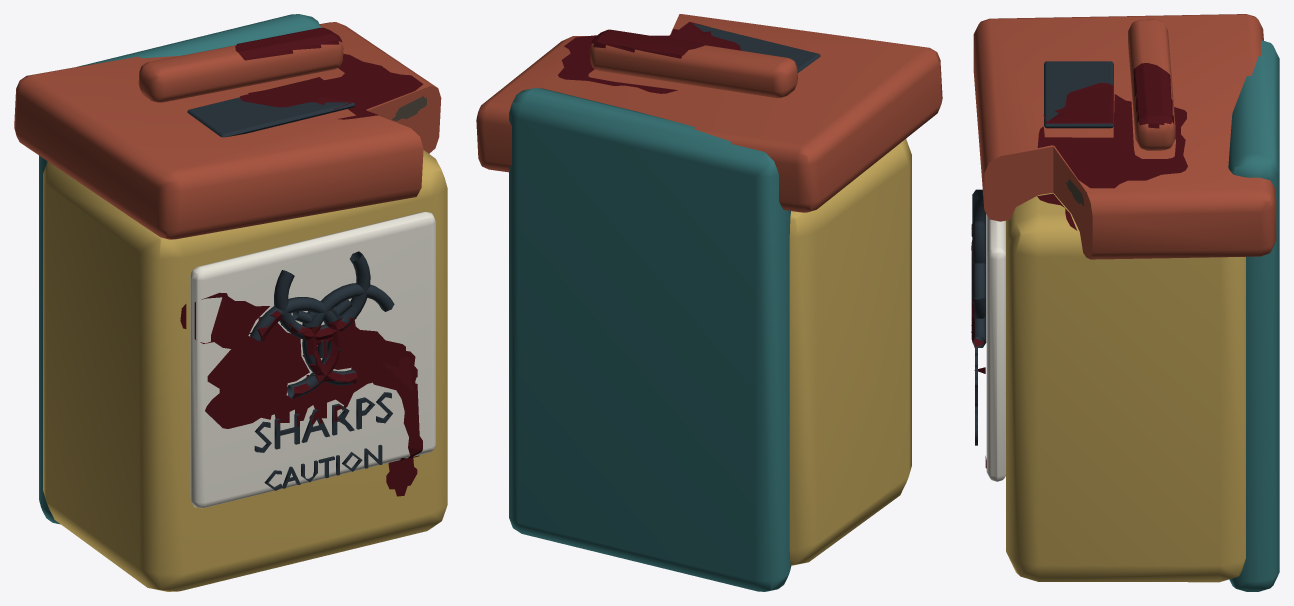
The model's file is sharps_container.glb.
The picture shows the model from 3 angles, left to right: view 1: azimuth 30°, elevation 25°; view 2: azimuth 150°, elevation 25°; view 3: azimuth 270°, elevation 25°; orthographic projection. The views are drawn at different scales.
Parts seen in each view (by area): view 1: Outbreak_SharpsContainer_Static; view 2: Outbreak_SharpsContainer_Static; view 3: Outbreak_SharpsContainer_Static.
Boxes of the visible parts, left/top/right/bottom form: Outbreak_SharpsContainer_Static: left=14, top=14, right=447, bottom=591; Outbreak_SharpsContainer_Static: left=476, top=14, right=942, bottom=591; Outbreak_SharpsContainer_Static: left=971, top=14, right=1279, bottom=591.
Size of the model in its own units: 0.2628 by 0.3535 by 0.2073.
